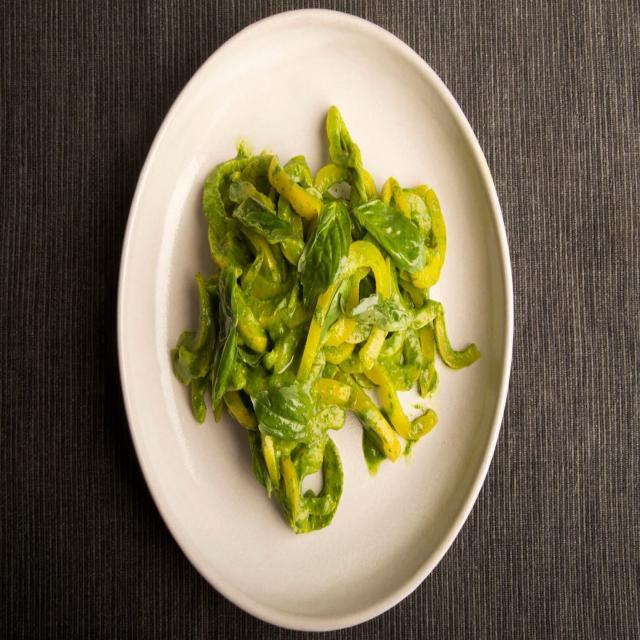aguacate: (181, 137, 453, 502)
